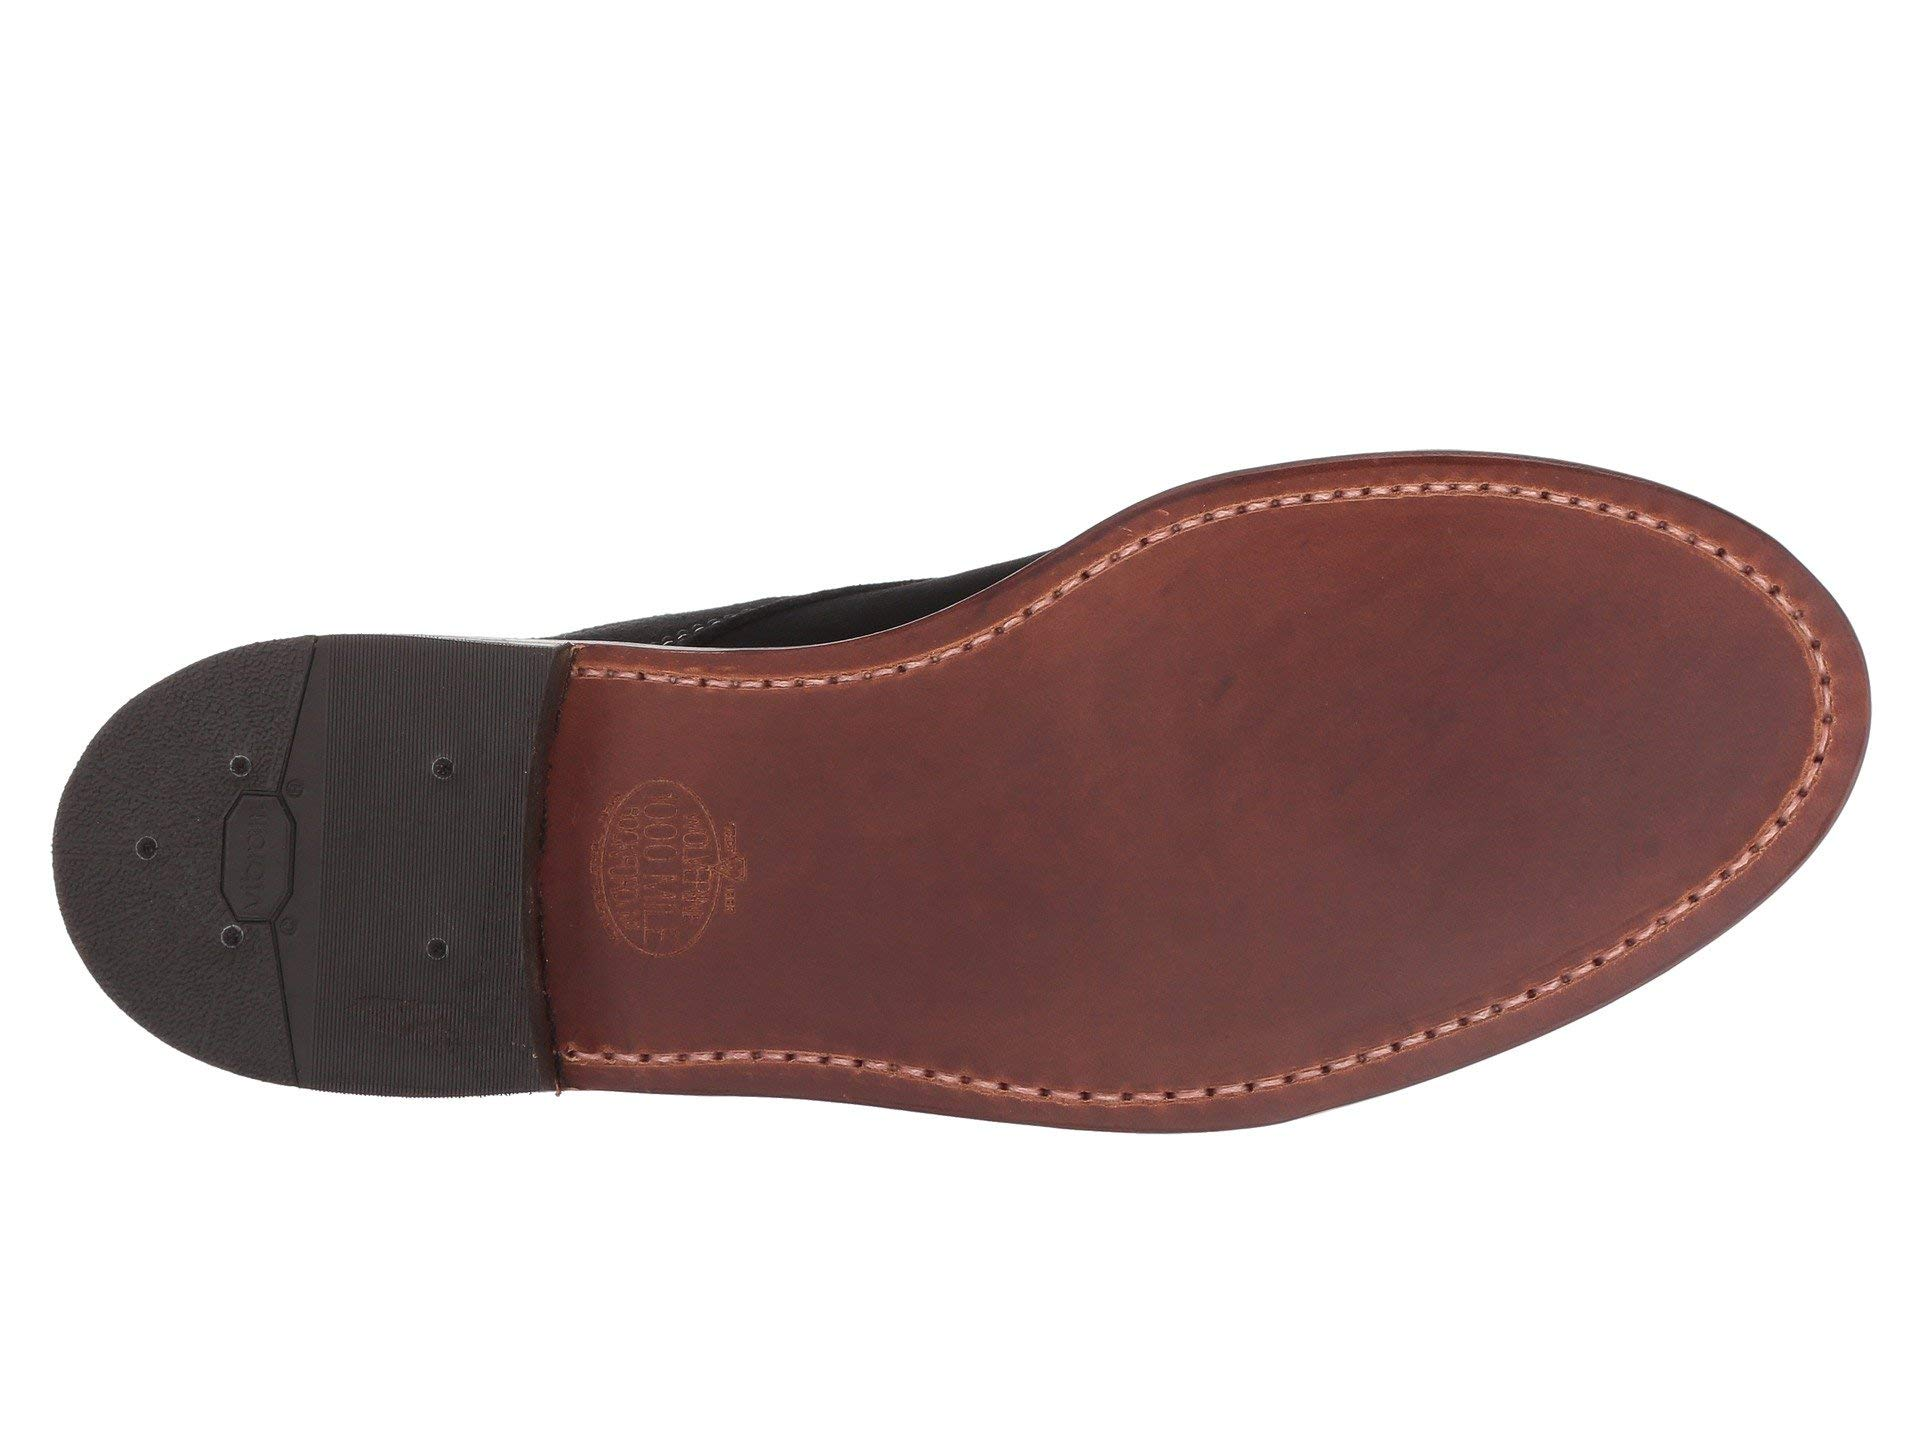circle: (118, 732, 509, 1023)
exclude: (531, 529, 1160, 1131)
line: (118, 732, 509, 1023)
polygon: (118, 732, 509, 1023)
text: (118, 732, 509, 1023)
